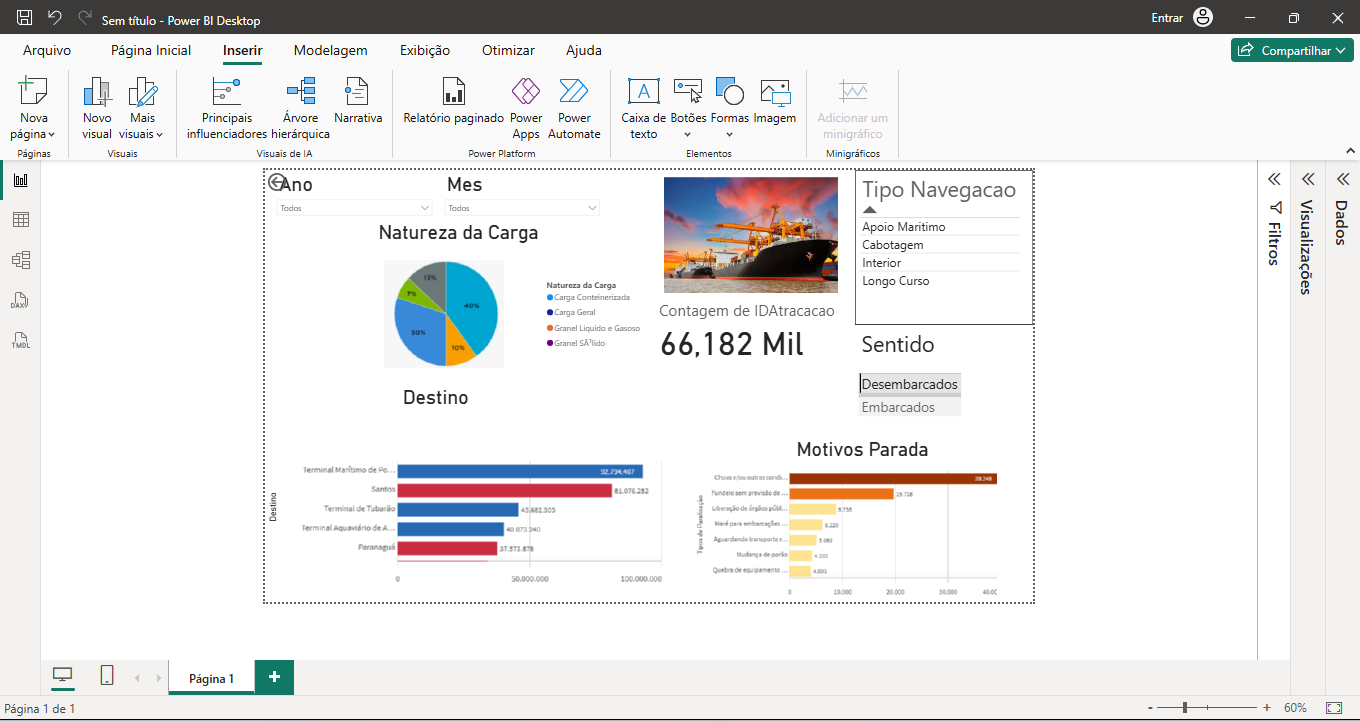

What the dashboard file says about the page in this screenshot:
{"tool":"powerbi","page":{"name":"Página 1","canvas":[1280,720],"ordinal":0},"visuals":[{"type":"slicer","fields":{"Values":["api-portos 2025atracacao.Ano"]},"box":[10.2,0,279.4,84],"z":0},{"type":"slicer","fields":{"Values":["api-portos 2025atracacao.Mes"]},"box":[290,0,278.3,85],"z":1000},{"type":"pieChart","fields":{"Category":["cargas.Natureza da Carga"],"Y":["CountNonNull(cargas.Natureza da Carga)"]},"box":[4.4,84.9,564.9,275.1],"z":2000},{"type":"tableEx","fields":{"Values":["cargas.Tipo Navegação"]},"box":[982.6,0,297.4,309.5],"z":3000},{"type":"actionButton","box":[0,0,100,40],"z":5000},{"type":"cardVisual","fields":{"Data":["CountNonNull(api-portos 2025atracacao.IDAtracacao)"]},"box":[641,166.8,337.6,142.7],"z":6000},{"type":"image","box":[624.9,0,357.7,166.8],"z":7000},{"type":"barChart","title":"Motivos de Parada","fields":{"Category":["TemposAtracacaoParalisacao.DescricaoTempoDesconto"],"Y":["CountNonNull(TemposAtracacaoParalisacao.DescricaoTempoDesconto)"]},"box":[567.7,310.1,710,408],"z":8000},{"type":"azureMap","fields":{"Category":["Origem.País Origem"]},"box":[10,359.7,558.6,359.7],"z":8001}]}

Visuals, with their boxes on the page's 1280x720 design canvas (x1, y1, x2, y2). These are canvas units, not pixel positions in the 1360x721 screenshot, which may show the page scaled, cropped or inside an application window:
slicer - api-portos 2025atracacao.Ano: 10, 0, 290, 84
slicer - api-portos 2025atracacao.Mes: 290, 0, 568, 85
pieChart - cargas.Natureza da Carga x CountNonNull(cargas.Natureza da Carga): 4, 85, 569, 360
tableEx - cargas.Tipo Navegação: 983, 0, 1280, 310
actionButton: 0, 0, 100, 40
cardVisual - CountNonNull(api-portos 2025atracacao.IDAtracacao): 641, 167, 979, 310
image: 625, 0, 983, 167
"Motivos de Parada" barChart: 568, 310, 1278, 718
azureMap - Origem.País Origem: 10, 360, 569, 719
